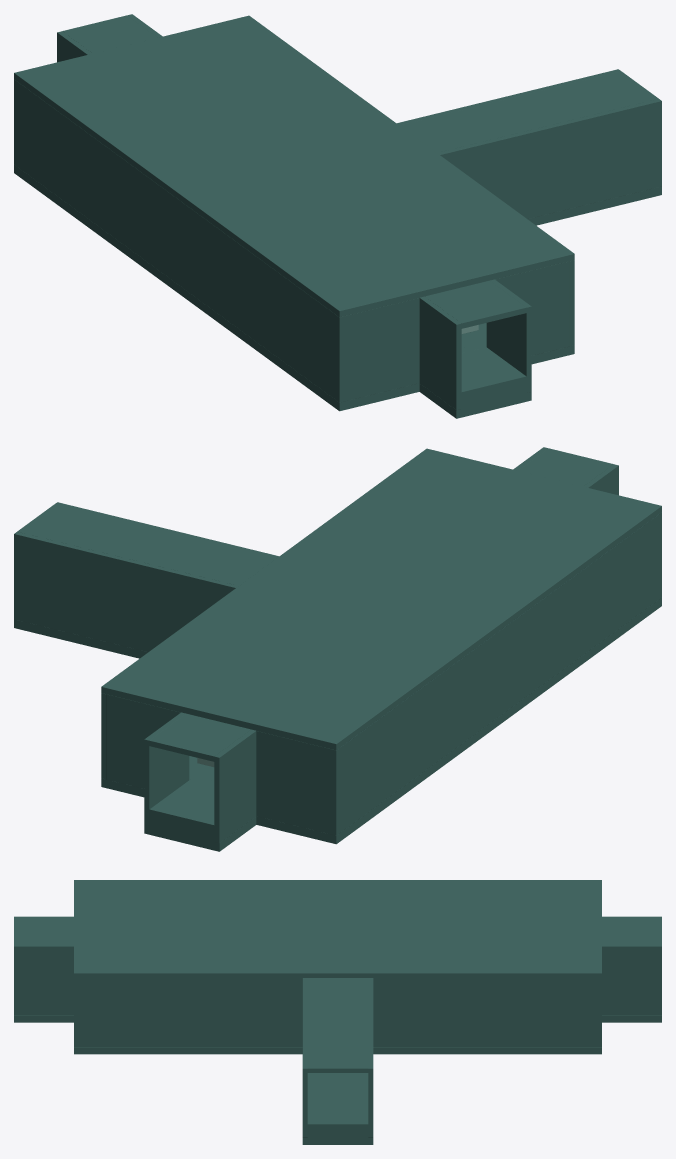
The model's file is colonnade.glb.
3 renders of one model, top to bottom at view 1: azimuth 30°, elevation 25°; view 2: azimuth 150°, elevation 25°; view 3: azimuth 270°, elevation 25°, orthographic. The views are drawn at different scales.
Parts seen in each view (by area): view 1: Colonnade_ThickRoof, West_ClosedWall, East_Connector_Wall_002, East_Connector_Roof_000, South_Wall_-5.2, Colonnade_BasinSlab, South_Wall_1.5, South_Connector_Wall_001, South_Connector_Floor_000, South_Connector_Roof_000, South_Connector_Wall_002, North_Connector_Roof_000 (+3 smaller); view 2: Colonnade_ThickRoof, West_ClosedWall, East_Connector_Wall_001, East_Connector_Roof_000, North_Wall_-5.2, Colonnade_BasinSlab, North_Wall_1.5, North_Connector_Wall_001, North_Connector_Floor_000, North_Connector_Roof_000, North_Connector_Wall_002, South_Connector_Roof_000 (+3 smaller); view 3: Colonnade_ThickRoof, East_Wall_-13.04, East_Wall_1.5, East_Connector_Roof_000, East_Connector_Floor_000, North_Connector_Wall_002, South_Connector_Wall_002, Colonnade_BasinSlab, North_Connector_Roof_000, South_Connector_Roof_000, East_Connector_Wall_001, East_Connector_Wall_002 (+2 smaller).
Boxes of the visible parts, bbox=[...] form: Colonnade_ThickRoof: bbox=[14, 15, 574, 317]; West_ClosedWall: bbox=[14, 79, 344, 402]; East_Connector_Wall_002: bbox=[437, 99, 661, 218]; East_Connector_Roof_000: bbox=[399, 71, 658, 152]; South_Wall_-5.2: bbox=[344, 298, 419, 401]; Colonnade_BasinSlab: bbox=[14, 164, 574, 411]; South_Wall_1.5: bbox=[486, 261, 569, 355]; South_Connector_Wall_001: bbox=[419, 296, 461, 410]; South_Connector_Floor_000: bbox=[461, 347, 526, 417]; South_Connector_Roof_000: bbox=[425, 280, 526, 328]; South_Connector_Wall_002: bbox=[489, 279, 531, 392]; North_Connector_Roof_000: bbox=[62, 15, 157, 53]; Colonnade_ThickRoof: bbox=[101, 448, 661, 750]; West_ClosedWall: bbox=[331, 512, 661, 835]; East_Connector_Wall_001: bbox=[14, 532, 238, 651]; East_Connector_Roof_000: bbox=[17, 504, 276, 585]; North_Wall_-5.2: bbox=[256, 731, 331, 834]; Colonnade_BasinSlab: bbox=[101, 597, 661, 844]; North_Wall_1.5: bbox=[106, 694, 189, 788]; North_Connector_Wall_001: bbox=[214, 729, 256, 843]; North_Connector_Floor_000: bbox=[149, 780, 214, 850]; North_Connector_Roof_000: bbox=[149, 713, 250, 761]; North_Connector_Wall_002: bbox=[144, 712, 186, 825]; South_Connector_Roof_000: bbox=[518, 448, 613, 486]; Colonnade_ThickRoof: bbox=[74, 880, 601, 978]; East_Wall_-13.04: bbox=[373, 978, 601, 1047]; East_Wall_1.5: bbox=[74, 978, 302, 1047]; East_Connector_Roof_000: bbox=[307, 978, 368, 1072]; East_Connector_Floor_000: bbox=[307, 1073, 368, 1144]; North_Connector_Wall_002: bbox=[602, 944, 661, 1015]; South_Connector_Wall_002: bbox=[14, 944, 73, 1015]; Colonnade_BasinSlab: bbox=[74, 1047, 601, 1054]; North_Connector_Roof_000: bbox=[602, 918, 661, 944]; South_Connector_Roof_000: bbox=[14, 918, 73, 944]; East_Connector_Wall_001: bbox=[368, 978, 373, 1137]; East_Connector_Wall_002: bbox=[302, 978, 307, 1137].
Size of what is drawn, in the model's own units: 21.44 by 4.43 by 32.
